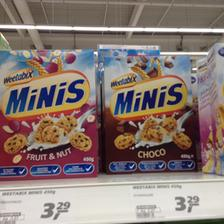Cerealien: (0, 48, 96, 179), (100, 54, 200, 174)
